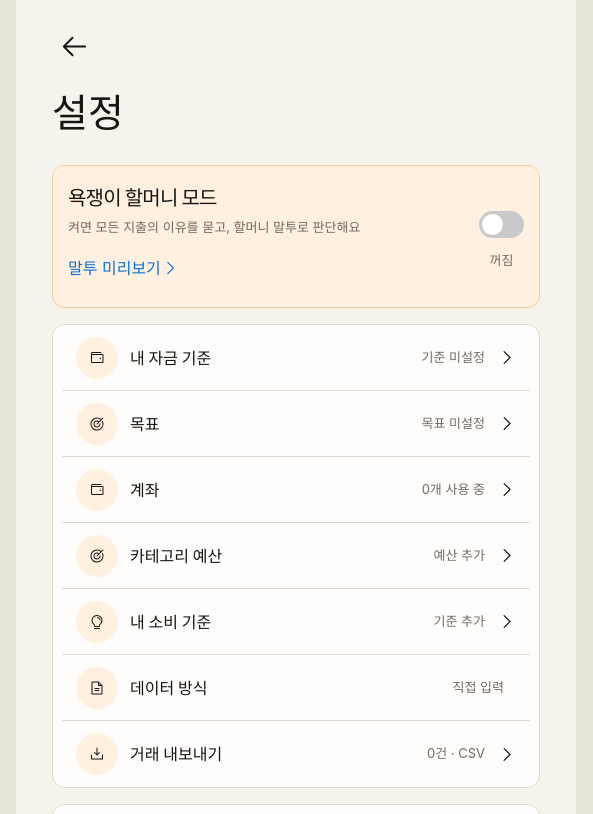
Scenario: live ledger summaries › uses the Korean grandma mode name and previews both voices
The width and height of the screenshot is (593, 814).
Expected: the heading "욕쟁이 할머니 모드" is shown, [68,186,217,210]
Click the button "말투 미리보기".
click(123, 268)  # box [68,246,179,290]
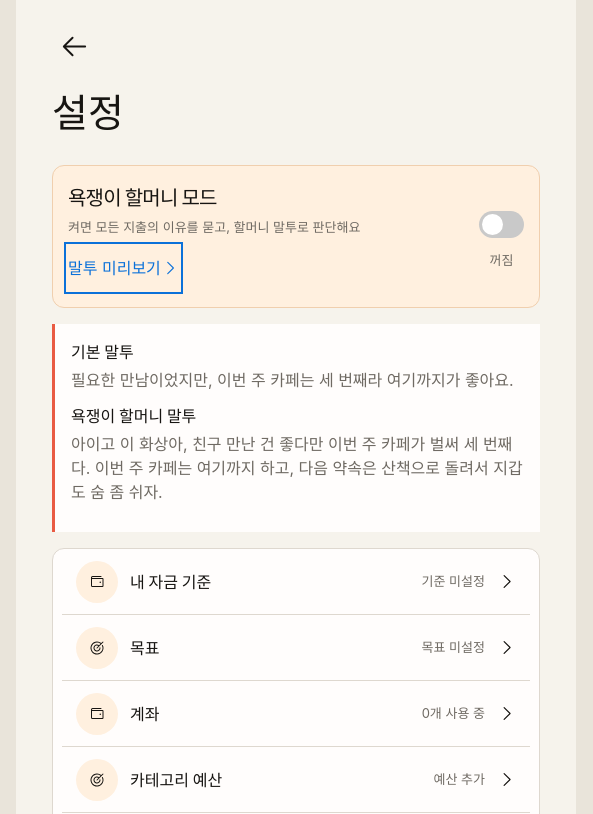
Result: the text "기본 말투" is shown at [71,342,134,362]
Result: the text "욕쟁이 할머니 말투" is shown at [71,406,196,426]
Result: the text "이번 주 카페가 벌써 세 번째" is shown at [71,434,523,502]
